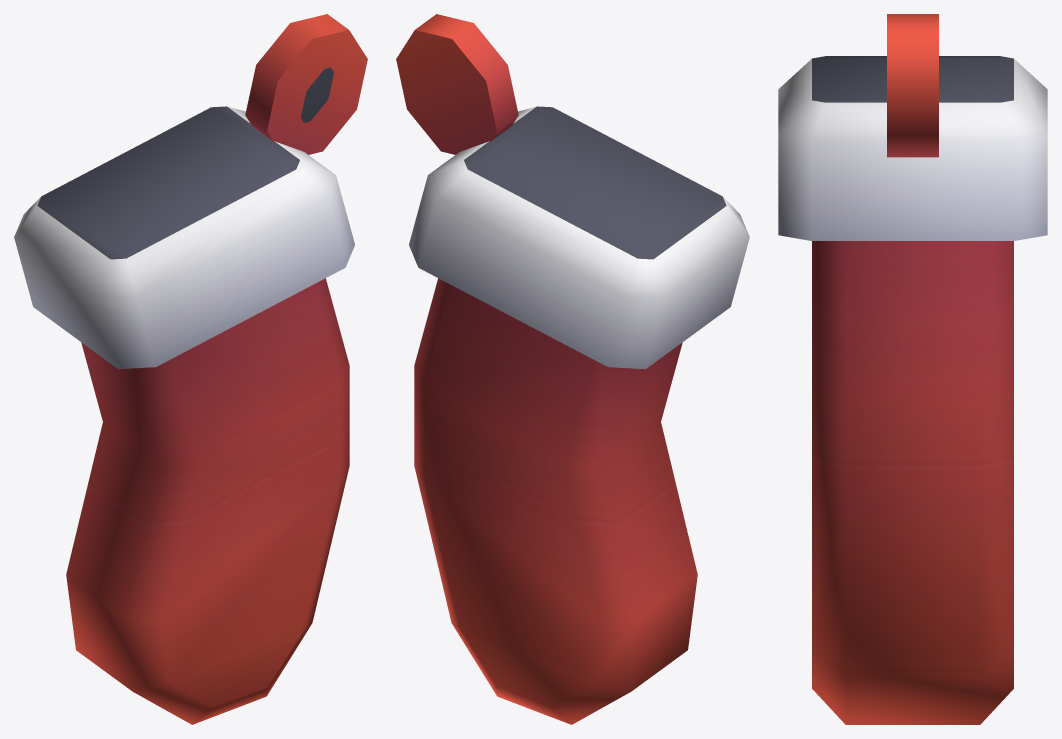
Rendered from christmas_stocking.glb.
3 renders of one model, left to right at view 1: azimuth 30°, elevation 25°; view 2: azimuth 150°, elevation 25°; view 3: azimuth 270°, elevation 25°, orthographic. The views are drawn at different scales.
Visible parts, largest first — view 1: sock-red; view 2: sock-red; view 3: sock-red.
Part boxes in pixels (x1,y1,x2,y2): sock-red: (14,14,367,724); sock-red: (396,14,749,724); sock-red: (778,14,1047,724).
Size of the model in its own units: 0.3061 by 0.6229 by 0.2.
Materials: 1 (1 with a texture image).
